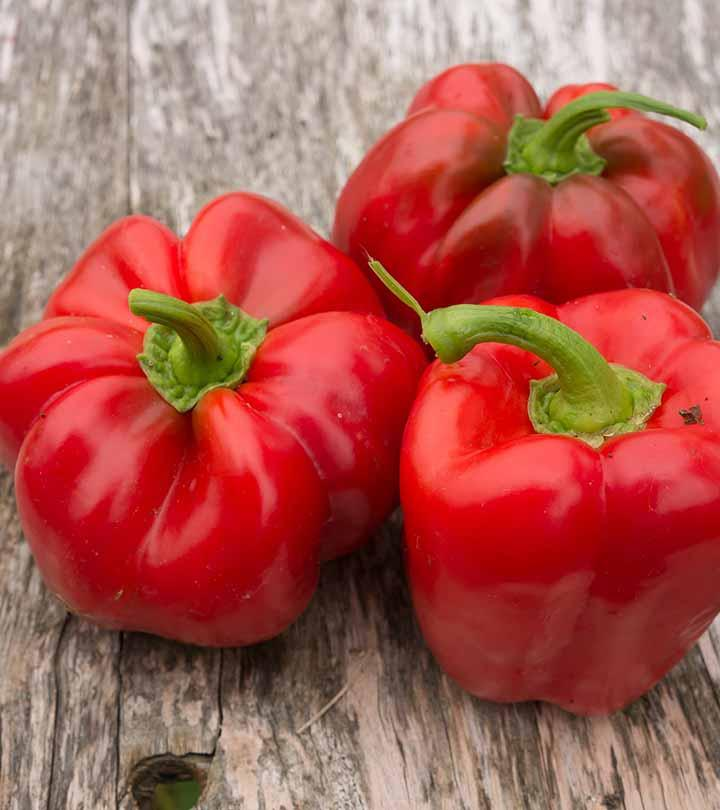paprika: (1, 60, 718, 715), (1, 190, 425, 648), (366, 252, 718, 717), (331, 60, 718, 317)
